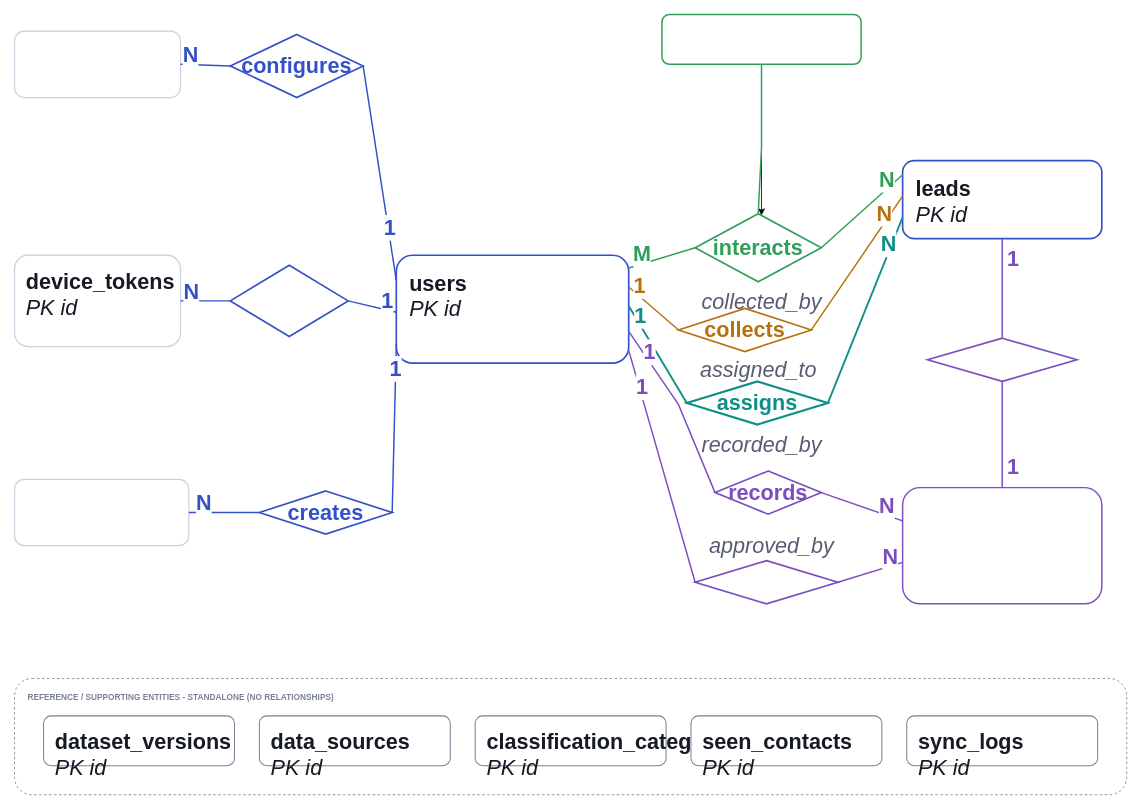
Image size: 1142x810. Some labels were removed from this diagram. The centre of each missing label's shape, as x and y in pixels:
"admin_api_keys PK id" belongs at point 101,512.
"approves" belongs at point 766,581.
"lead_activities PK id · associative entity" belongs at point 761,39.
"lead_outcomes PK id UQ lead_id (one outcome per lead)" belongs at point 1001,545.
"registers" belongs at point 289,300.
"results in" belongs at point 1001,359.
"user_settings PK id" belongs at point 97,64.
